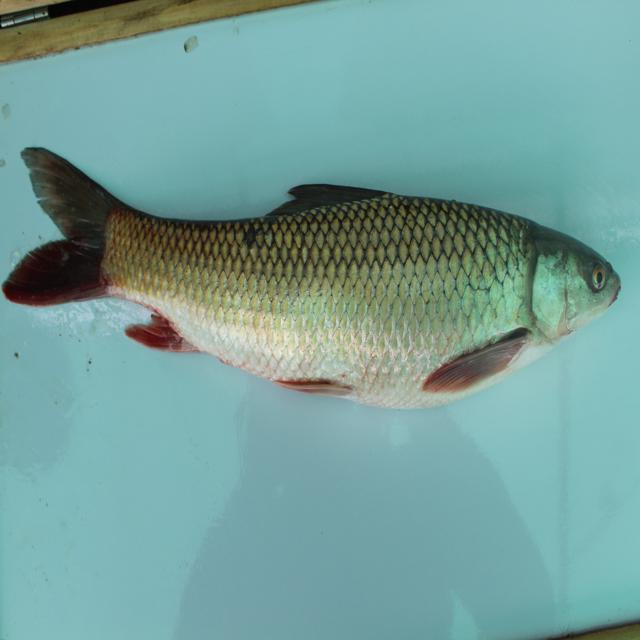Grass Carp: (4, 174, 622, 418)
